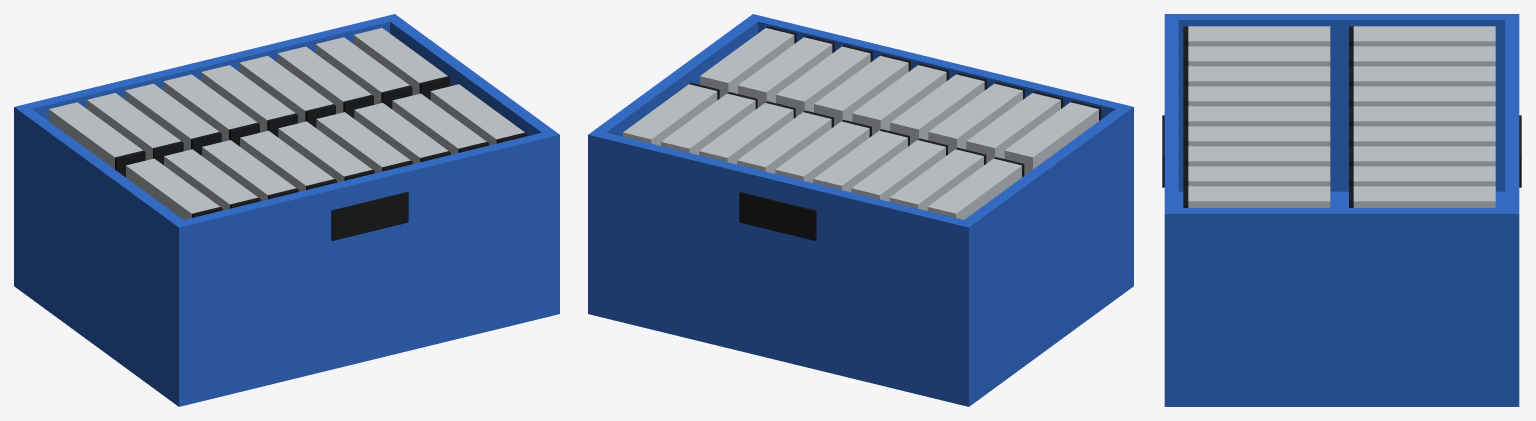
File: 49_HDD_Spare_Crate.fbx
3 renders of one model, left to right at view 1: azimuth 30°, elevation 25°; view 2: azimuth 150°, elevation 25°; view 3: azimuth 270°, elevation 25°, orthographic. The views are drawn at different scales.
Parts seen in each view (by area): view 1: 49_HDD_Spare_Crate; view 2: 49_HDD_Spare_Crate; view 3: 49_HDD_Spare_Crate.
Part boxes in pixels (x1,y1,x2,y2): 49_HDD_Spare_Crate: [14, 14, 559, 406]; 49_HDD_Spare_Crate: [588, 14, 1133, 406]; 49_HDD_Spare_Crate: [1162, 14, 1521, 406].
Size of the model in its own units: 0.4 by 0.18 by 0.304.
